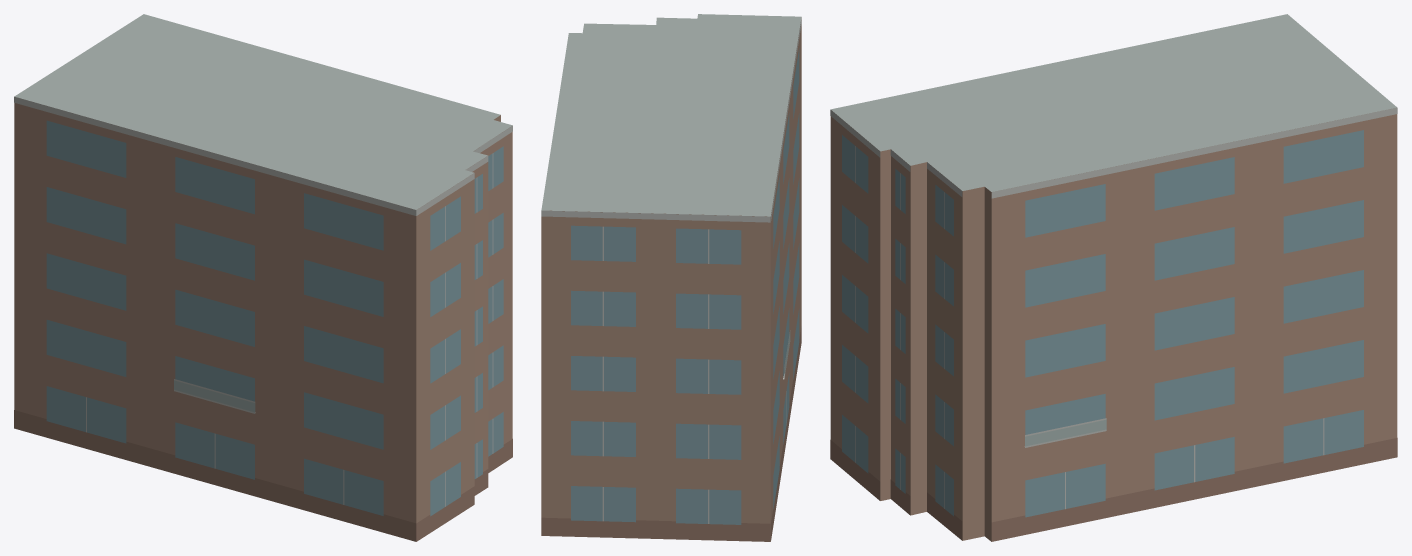
The model's file is survey-upis-32639023.glb.
3 renders of one model, left to right at view 1: azimuth 30°, elevation 25°; view 2: azimuth 150°, elevation 25°; view 3: azimuth 270°, elevation 25°, orthographic. The views are drawn at different scales.
Parts seen in each view (by area): view 1: survey-upis-32639023.tmp; view 2: survey-upis-32639023.tmp; view 3: survey-upis-32639023.tmp.
Part boxes in pixels (bbox=[...]): survey-upis-32639023.tmp: bbox=[14, 14, 512, 541]; survey-upis-32639023.tmp: bbox=[541, 14, 801, 541]; survey-upis-32639023.tmp: bbox=[830, 14, 1397, 541].
Bounding box in the file's own units: 14.43 × 13.2 × 19.4.
